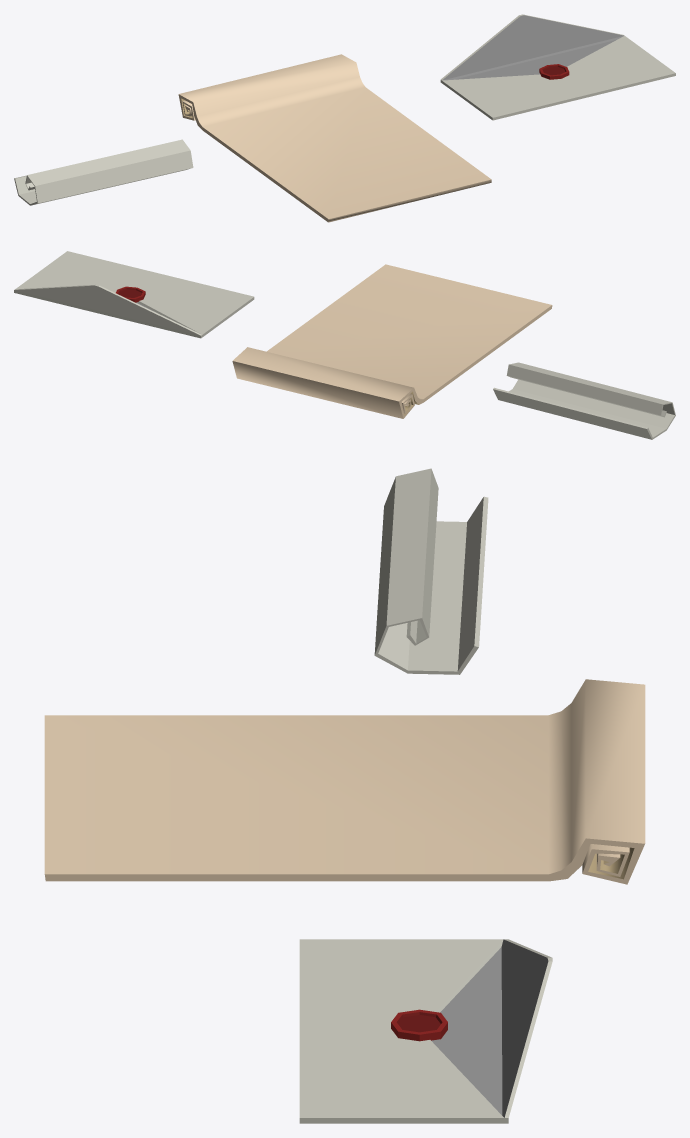
Rendered from 07_prop_notes_01.fbx.
3 views of the same model, one above another, from view 1: azimuth 30°, elevation 25°; view 2: azimuth 150°, elevation 25°; view 3: azimuth 270°, elevation 25° (orthographic). The views are drawn at different scales.
Parts seen in each view (by area): view 1: notes_01:note3, notes_01:note1, notes_01:note2; view 2: notes_01:note3, notes_01:note1, notes_01:note2; view 3: notes_01:note3, notes_01:note1, notes_01:note2.
Boxes of the visible parts, bbox=[...] form: notes_01:note3: bbox=[178, 54, 491, 222]; notes_01:note1: bbox=[440, 14, 675, 120]; notes_01:note2: bbox=[14, 139, 193, 205]; notes_01:note3: bbox=[232, 264, 552, 418]; notes_01:note1: bbox=[14, 251, 254, 338]; notes_01:note2: bbox=[493, 362, 675, 439]; notes_01:note3: bbox=[44, 679, 645, 884]; notes_01:note1: bbox=[299, 939, 552, 1123]; notes_01:note2: bbox=[374, 468, 488, 674].
Size of the model in its own units: 600 by 36 by 253.
